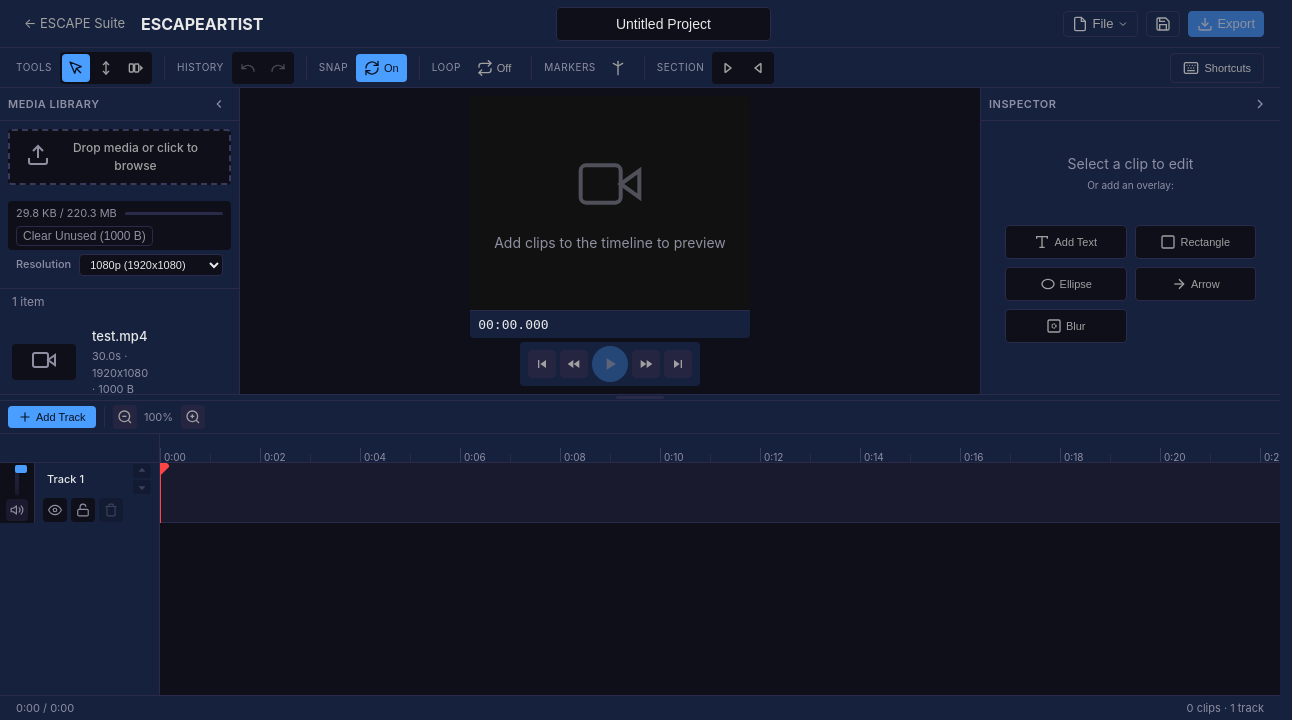
Test: one session slot per tab (ESCSUITE-274) › New Project clears this tab's slot and no other
Click the button with aria-label "File menu" at (1101, 24), box [1064,10,1138,36]
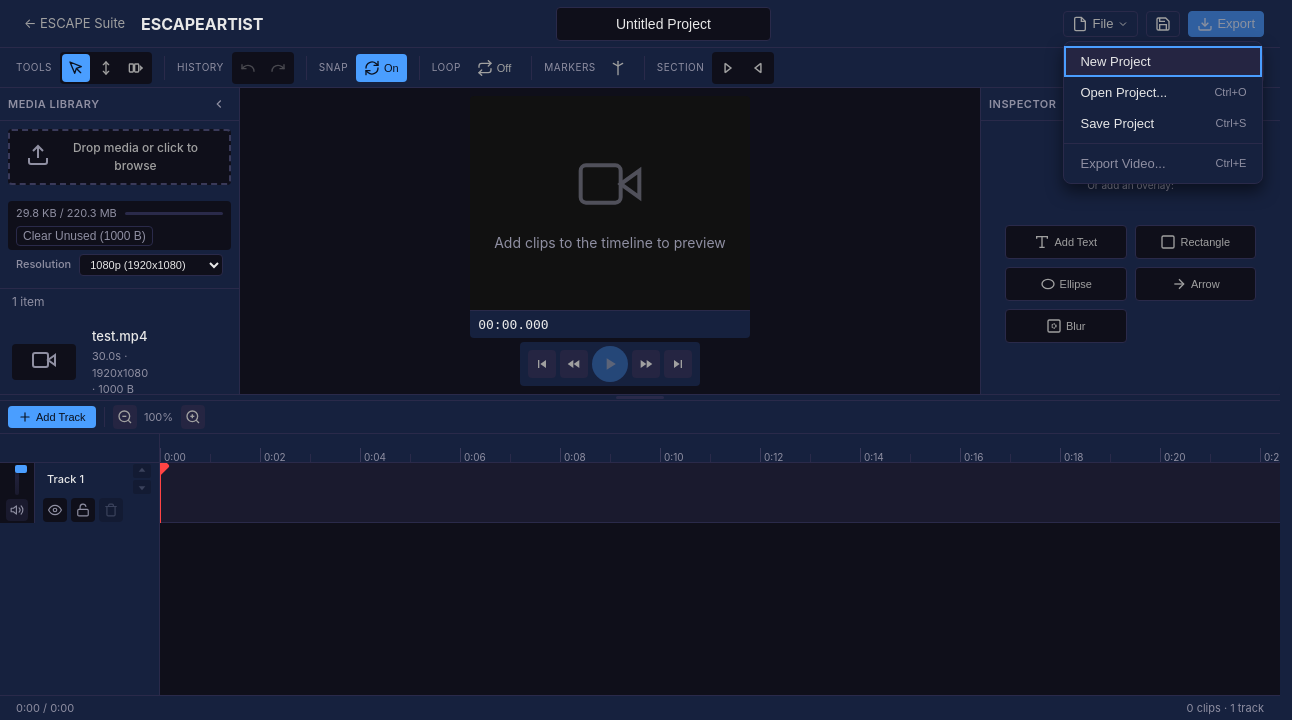
Click the menu item "New Project" at (1164, 61), box [1064,46,1262,76]
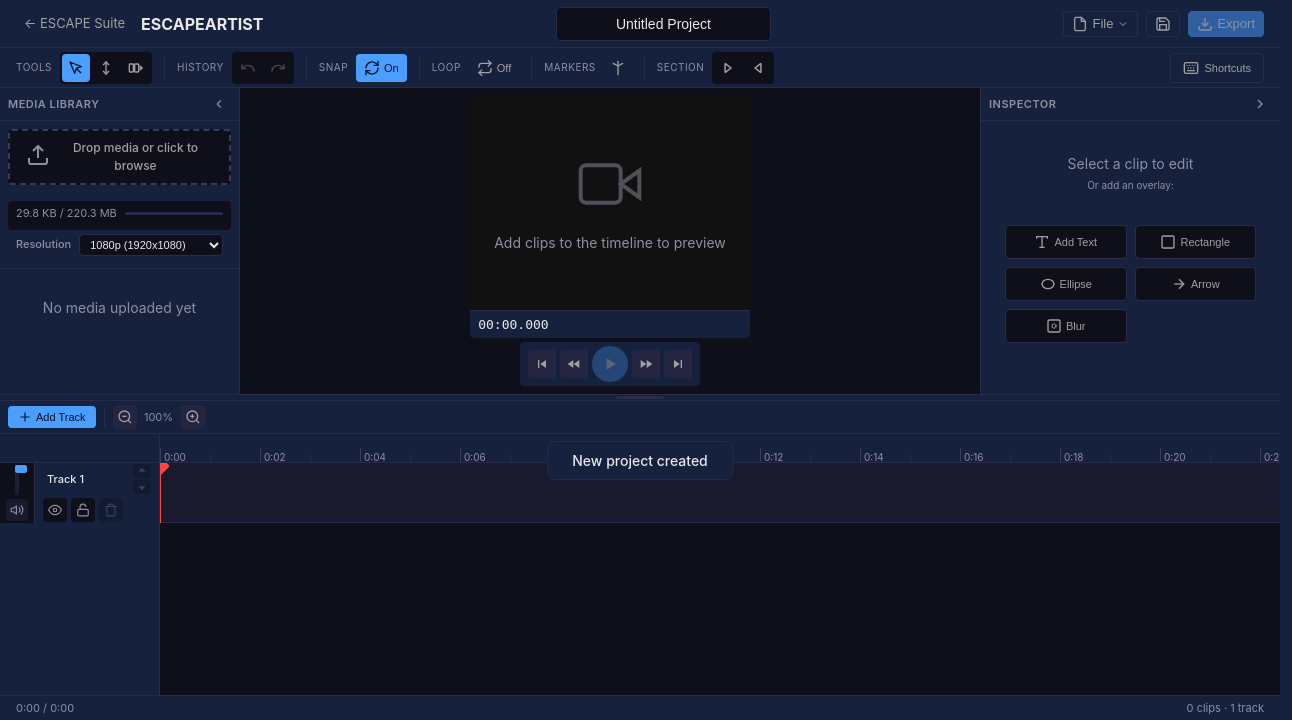
Expected: the text "New project created" is shown, [547,441,733,480]
